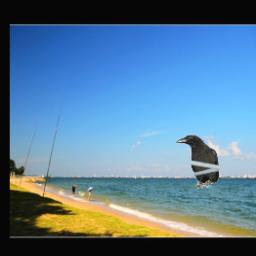Crow: (176, 135, 220, 190)
